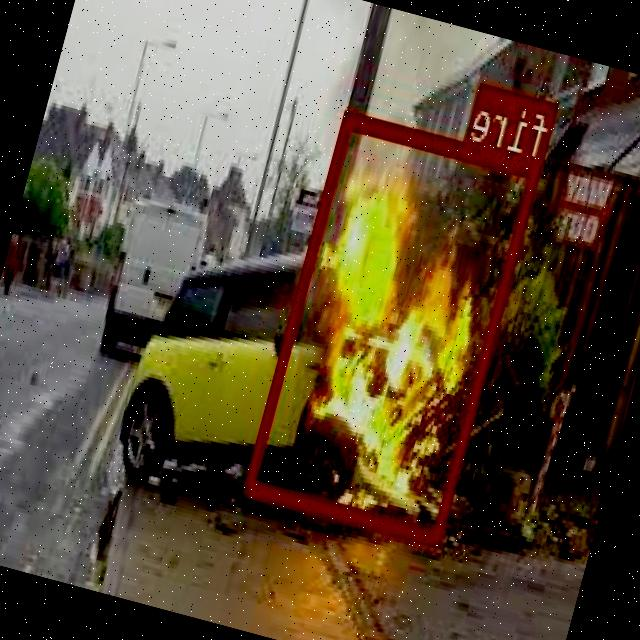fire: (244, 110, 544, 544)
